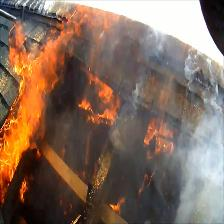fire: (0, 21, 47, 203), (47, 2, 90, 92), (144, 115, 173, 159), (78, 99, 119, 127), (89, 6, 121, 41), (90, 72, 113, 98), (110, 202, 123, 214)
smoke: (175, 94, 224, 224), (133, 24, 171, 64), (129, 80, 144, 114), (184, 51, 195, 86), (206, 58, 217, 90)
